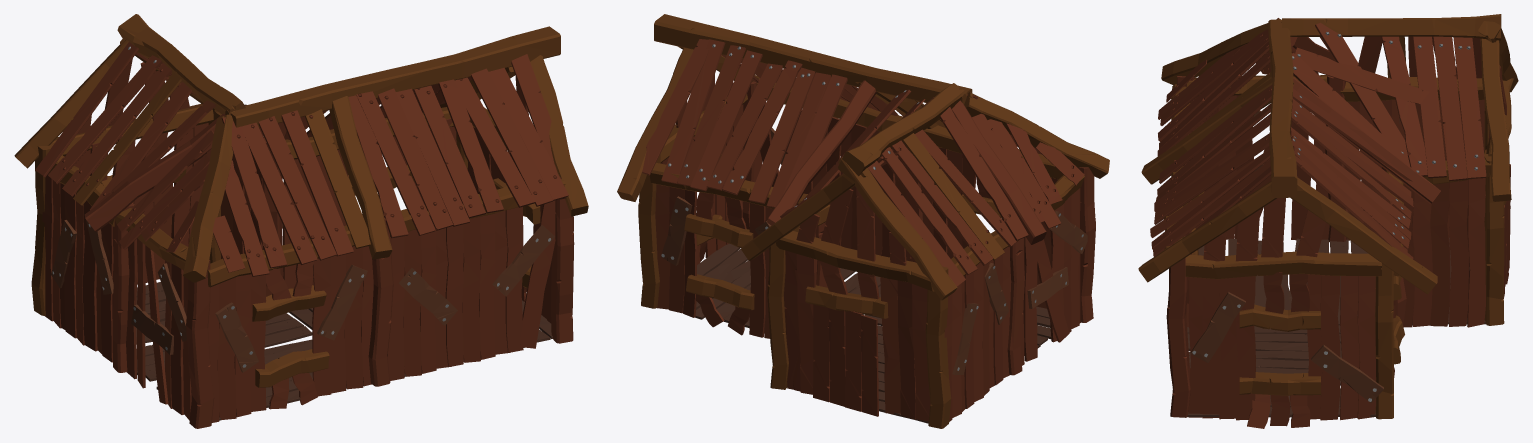
File: abandonedhousedoor.fbx
The picture shows the model from 3 angles, left to right: view 1: azimuth 30°, elevation 25°; view 2: azimuth 150°, elevation 25°; view 3: azimuth 270°, elevation 25°; orthographic projection. The views are drawn at different scales.
Visible parts, largest first — view 1: Cube.176; view 2: Cube.176; view 3: Cube.176.
Boxes of the visible parts, box(x1,y1,x2,y2) form: Cube.176: box(14, 14, 588, 428); Cube.176: box(617, 14, 1109, 428); Cube.176: box(1138, 14, 1518, 428).
Size of the model in its own units: 969 by 588 by 725.
